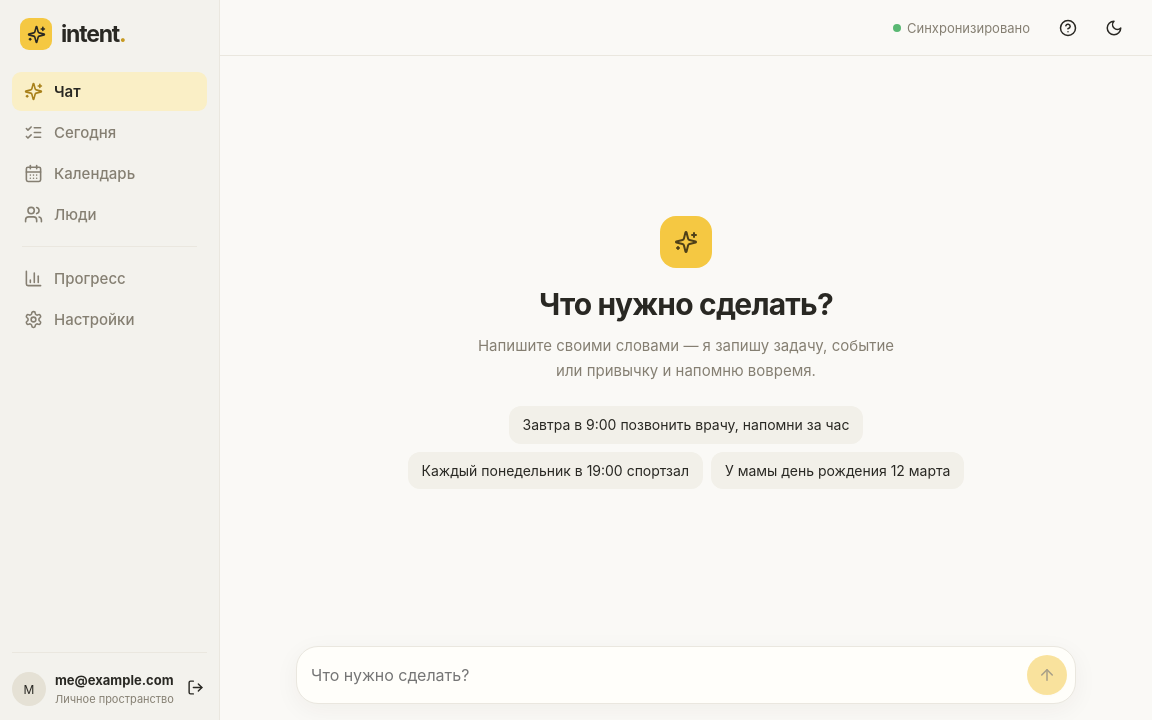
Test: shows save failures inside the task dialog and keeps the draft available
The width and height of the screenshot is (1152, 720).
Click the button "Сегодня" at (110, 132), box [12, 113, 207, 152]
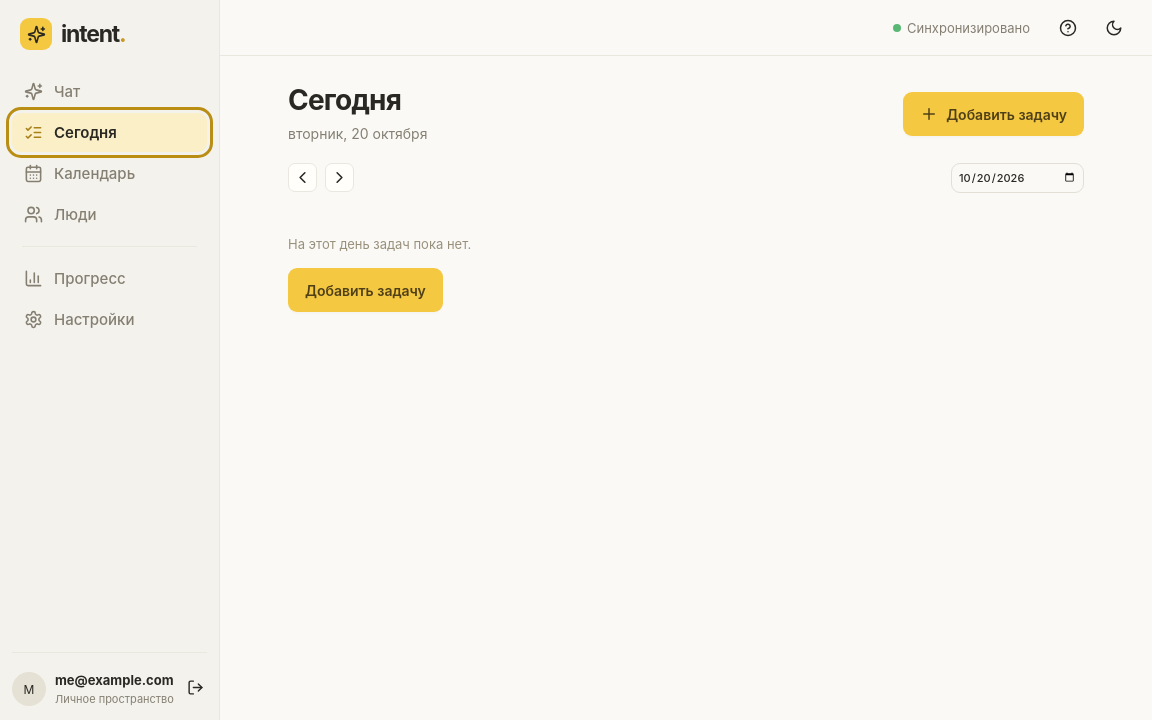
Click the 1st button "Добавить задачу" at (994, 114), box [903, 92, 1084, 136]
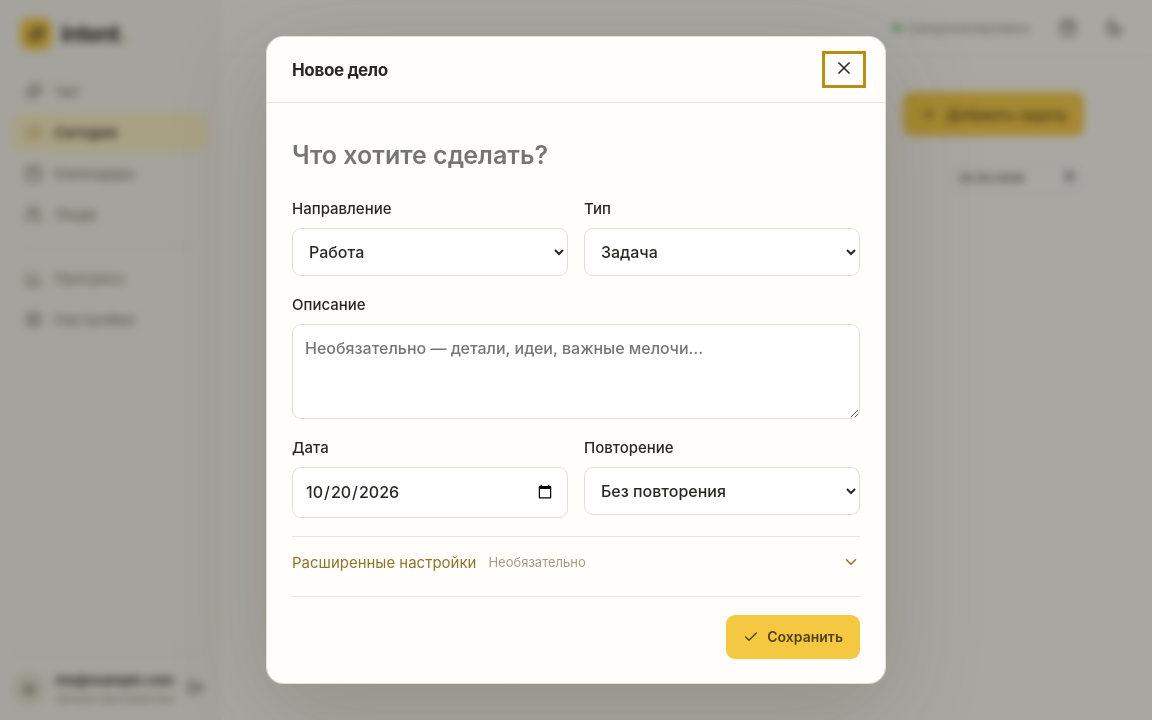
Type "Не терять черновик" into the field named "Название задачи" at (576, 155), box [292, 128, 860, 182]
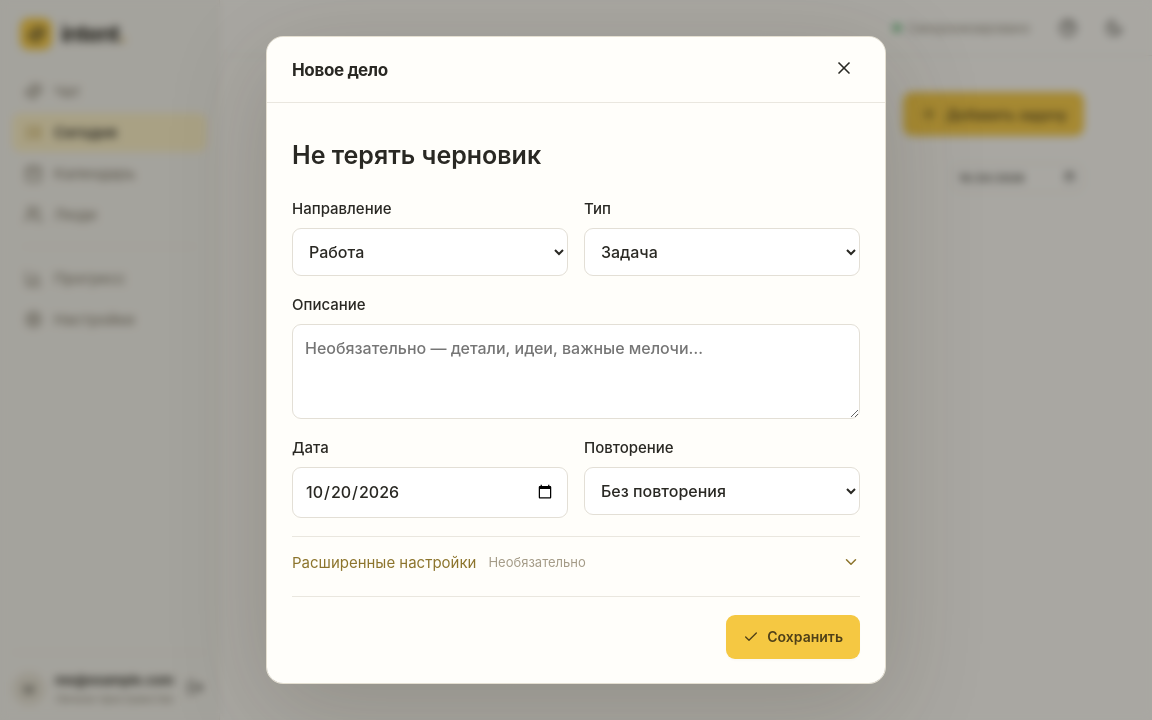
Click the button "Сохранить" at (793, 637), box [726, 615, 860, 659]
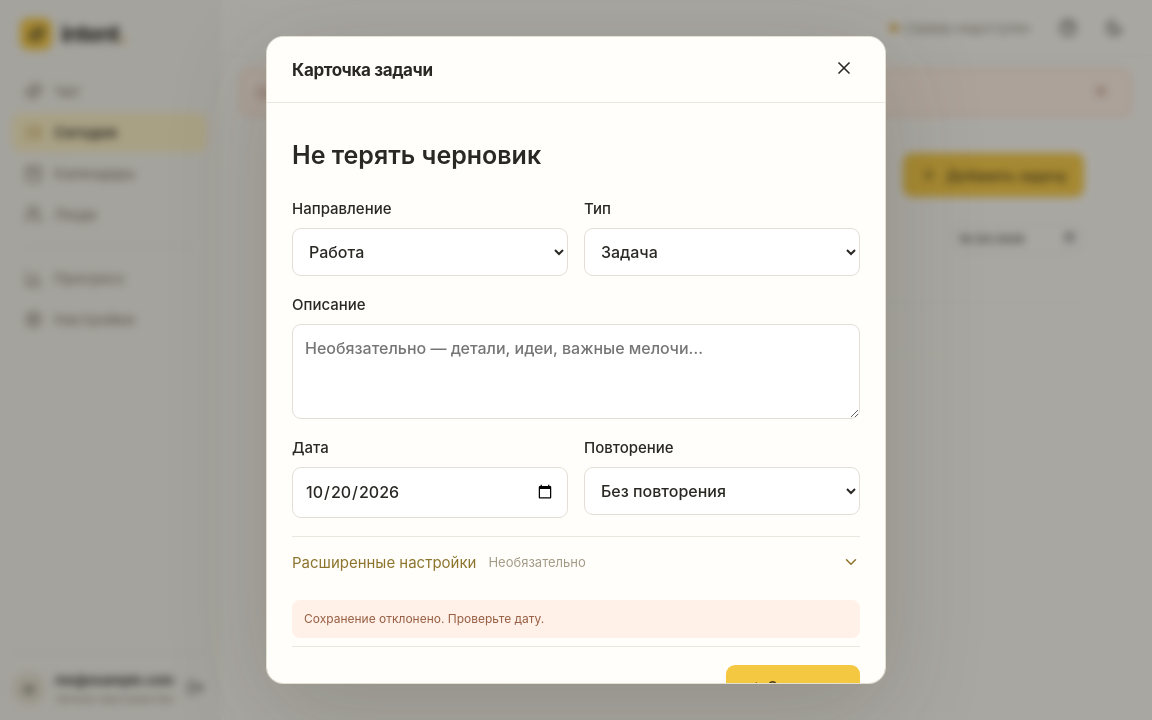
Now the message shows "Проверьте дату", box [304, 611, 544, 626]
